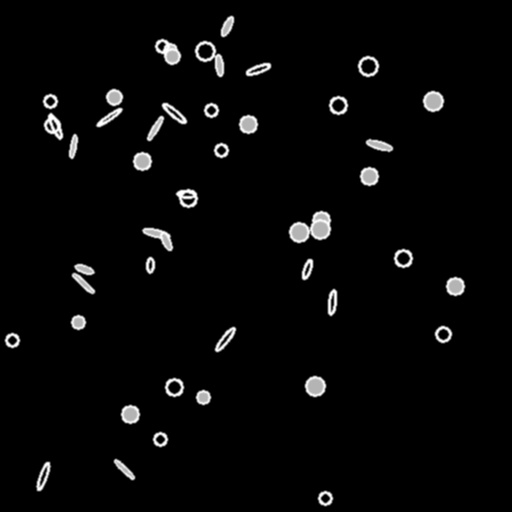pseudomonas: (161, 101, 187, 125), (214, 326, 236, 352), (71, 272, 95, 294), (96, 107, 122, 127), (113, 458, 135, 480), (35, 462, 51, 490), (146, 116, 164, 140), (47, 113, 63, 139), (246, 62, 270, 76), (366, 139, 392, 151), (143, 227, 169, 239), (220, 15, 234, 37), (300, 258, 314, 280), (159, 231, 173, 251), (327, 290, 337, 314), (74, 263, 94, 275), (214, 55, 224, 75), (69, 135, 77, 157), (177, 190, 195, 198), (147, 257, 153, 273)
synechocystis: (196, 42, 214, 60), (424, 92, 442, 110), (306, 377, 324, 395), (311, 220, 329, 238), (290, 223, 308, 241), (359, 57, 377, 75), (361, 168, 377, 184), (330, 97, 346, 113), (122, 406, 138, 422), (134, 153, 150, 169), (240, 116, 256, 132), (313, 212, 329, 228), (395, 250, 411, 266), (166, 379, 182, 395), (447, 278, 463, 294), (180, 190, 196, 206), (107, 90, 121, 104), (436, 327, 450, 341), (45, 118, 59, 132), (165, 49, 179, 63), (164, 44, 176, 56), (72, 316, 84, 328), (44, 95, 56, 107), (6, 334, 18, 346), (197, 391, 209, 403), (319, 492, 331, 504), (154, 433, 166, 445), (215, 144, 227, 156), (156, 40, 168, 52), (205, 104, 217, 116)
